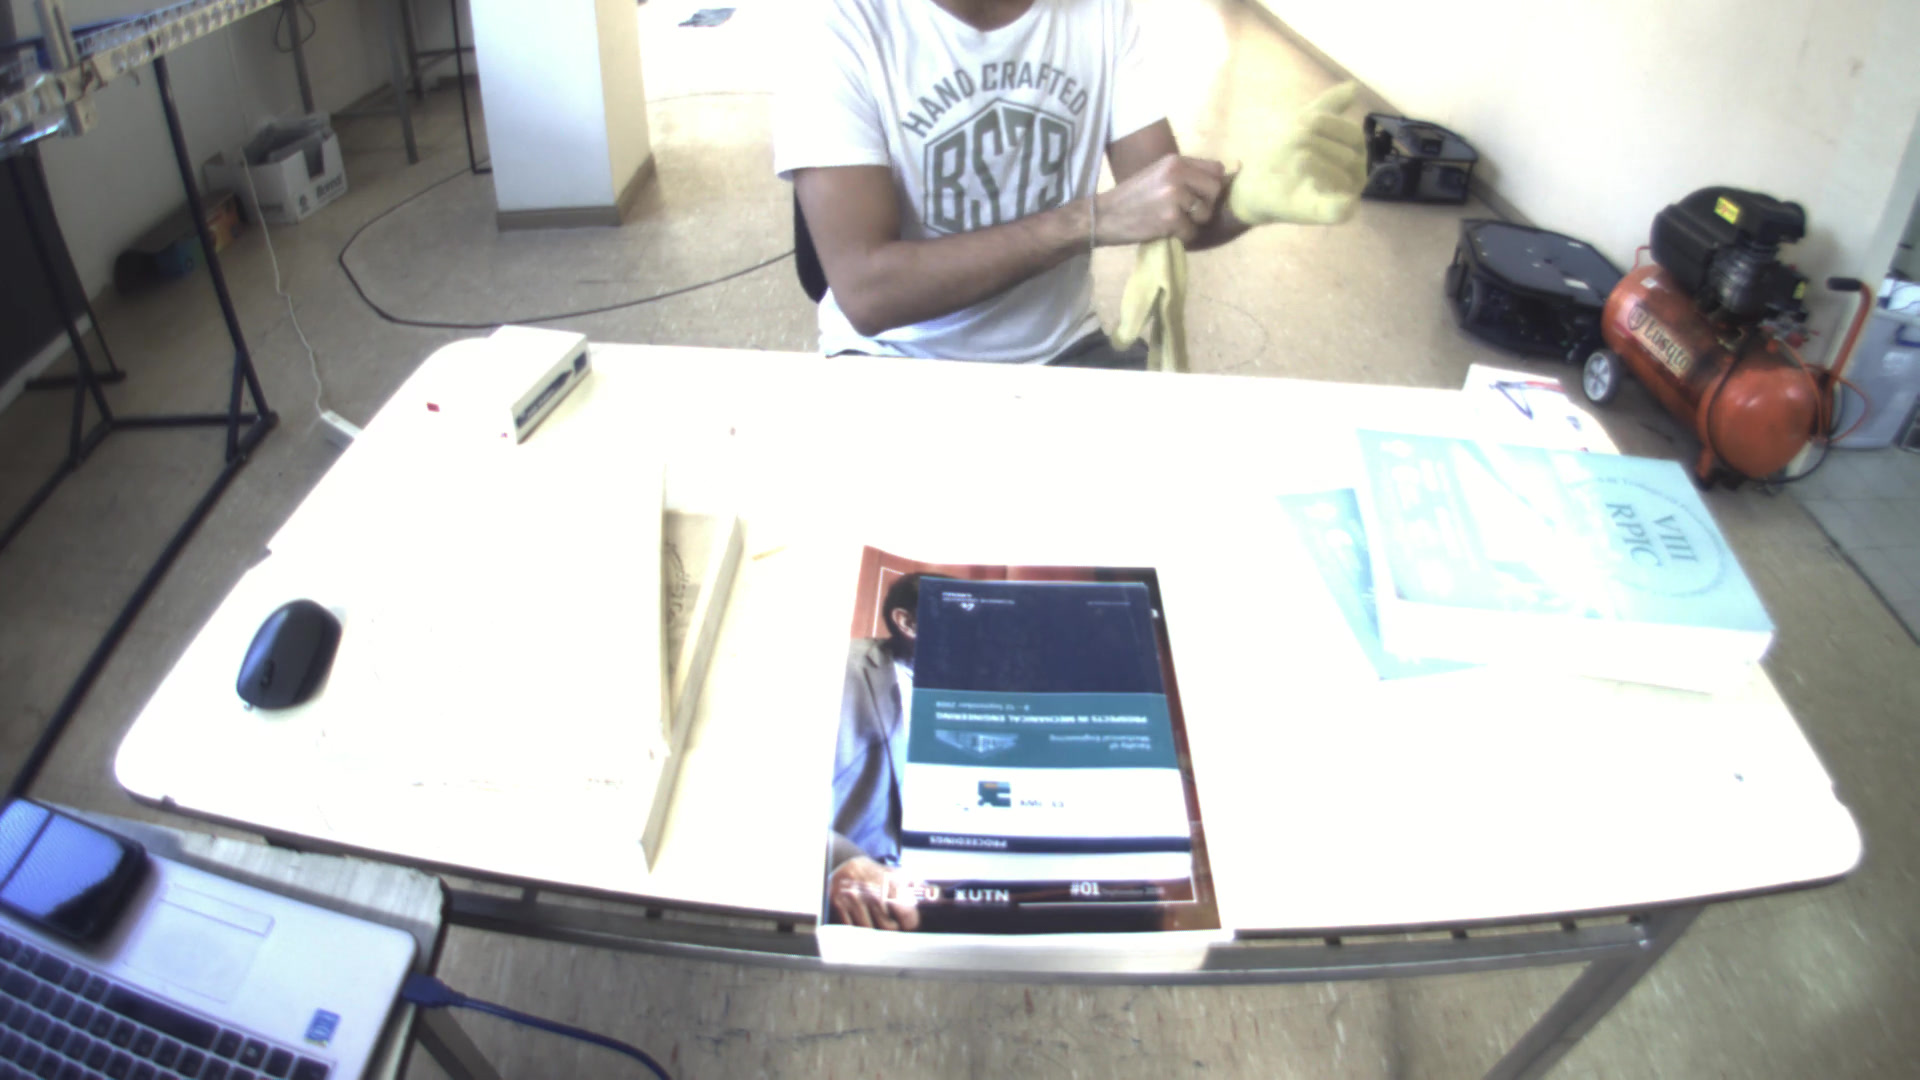hand: (1215, 53, 1396, 236), (1083, 142, 1226, 248)
